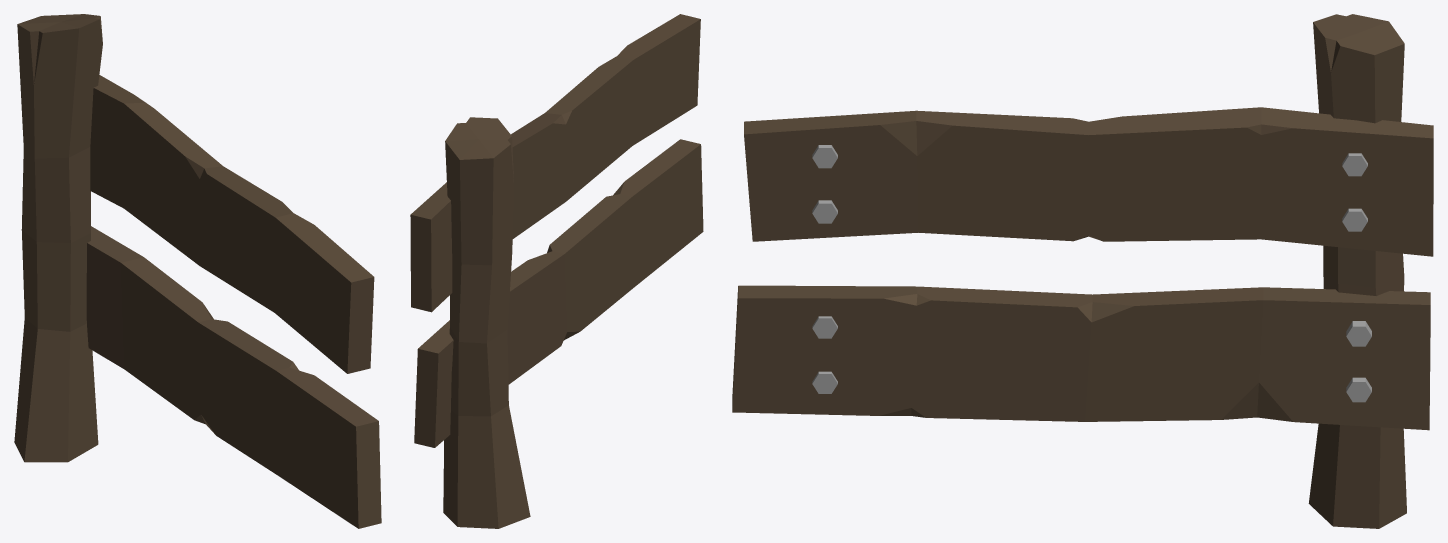
Rendered from M_fence2.fbx.
3 renders of one model, left to right at view 1: azimuth 30°, elevation 25°; view 2: azimuth 150°, elevation 25°; view 3: azimuth 270°, elevation 25°, orthographic. The views are drawn at different scales.
Parts seen in each view (by area): view 1: fence2; view 2: fence2; view 3: fence2.
Part boxes in pixels (x1,y1,x2,y2): fence2: [14, 14, 381, 528]; fence2: [410, 14, 703, 528]; fence2: [732, 14, 1433, 528].
Size of the model in its own units: 9.87 by 41.97 by 54.57.
